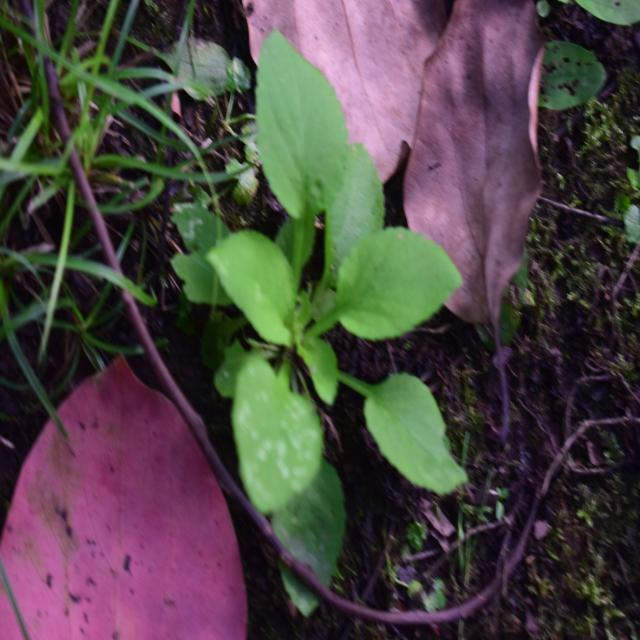Viola: (214, 36, 462, 552)
